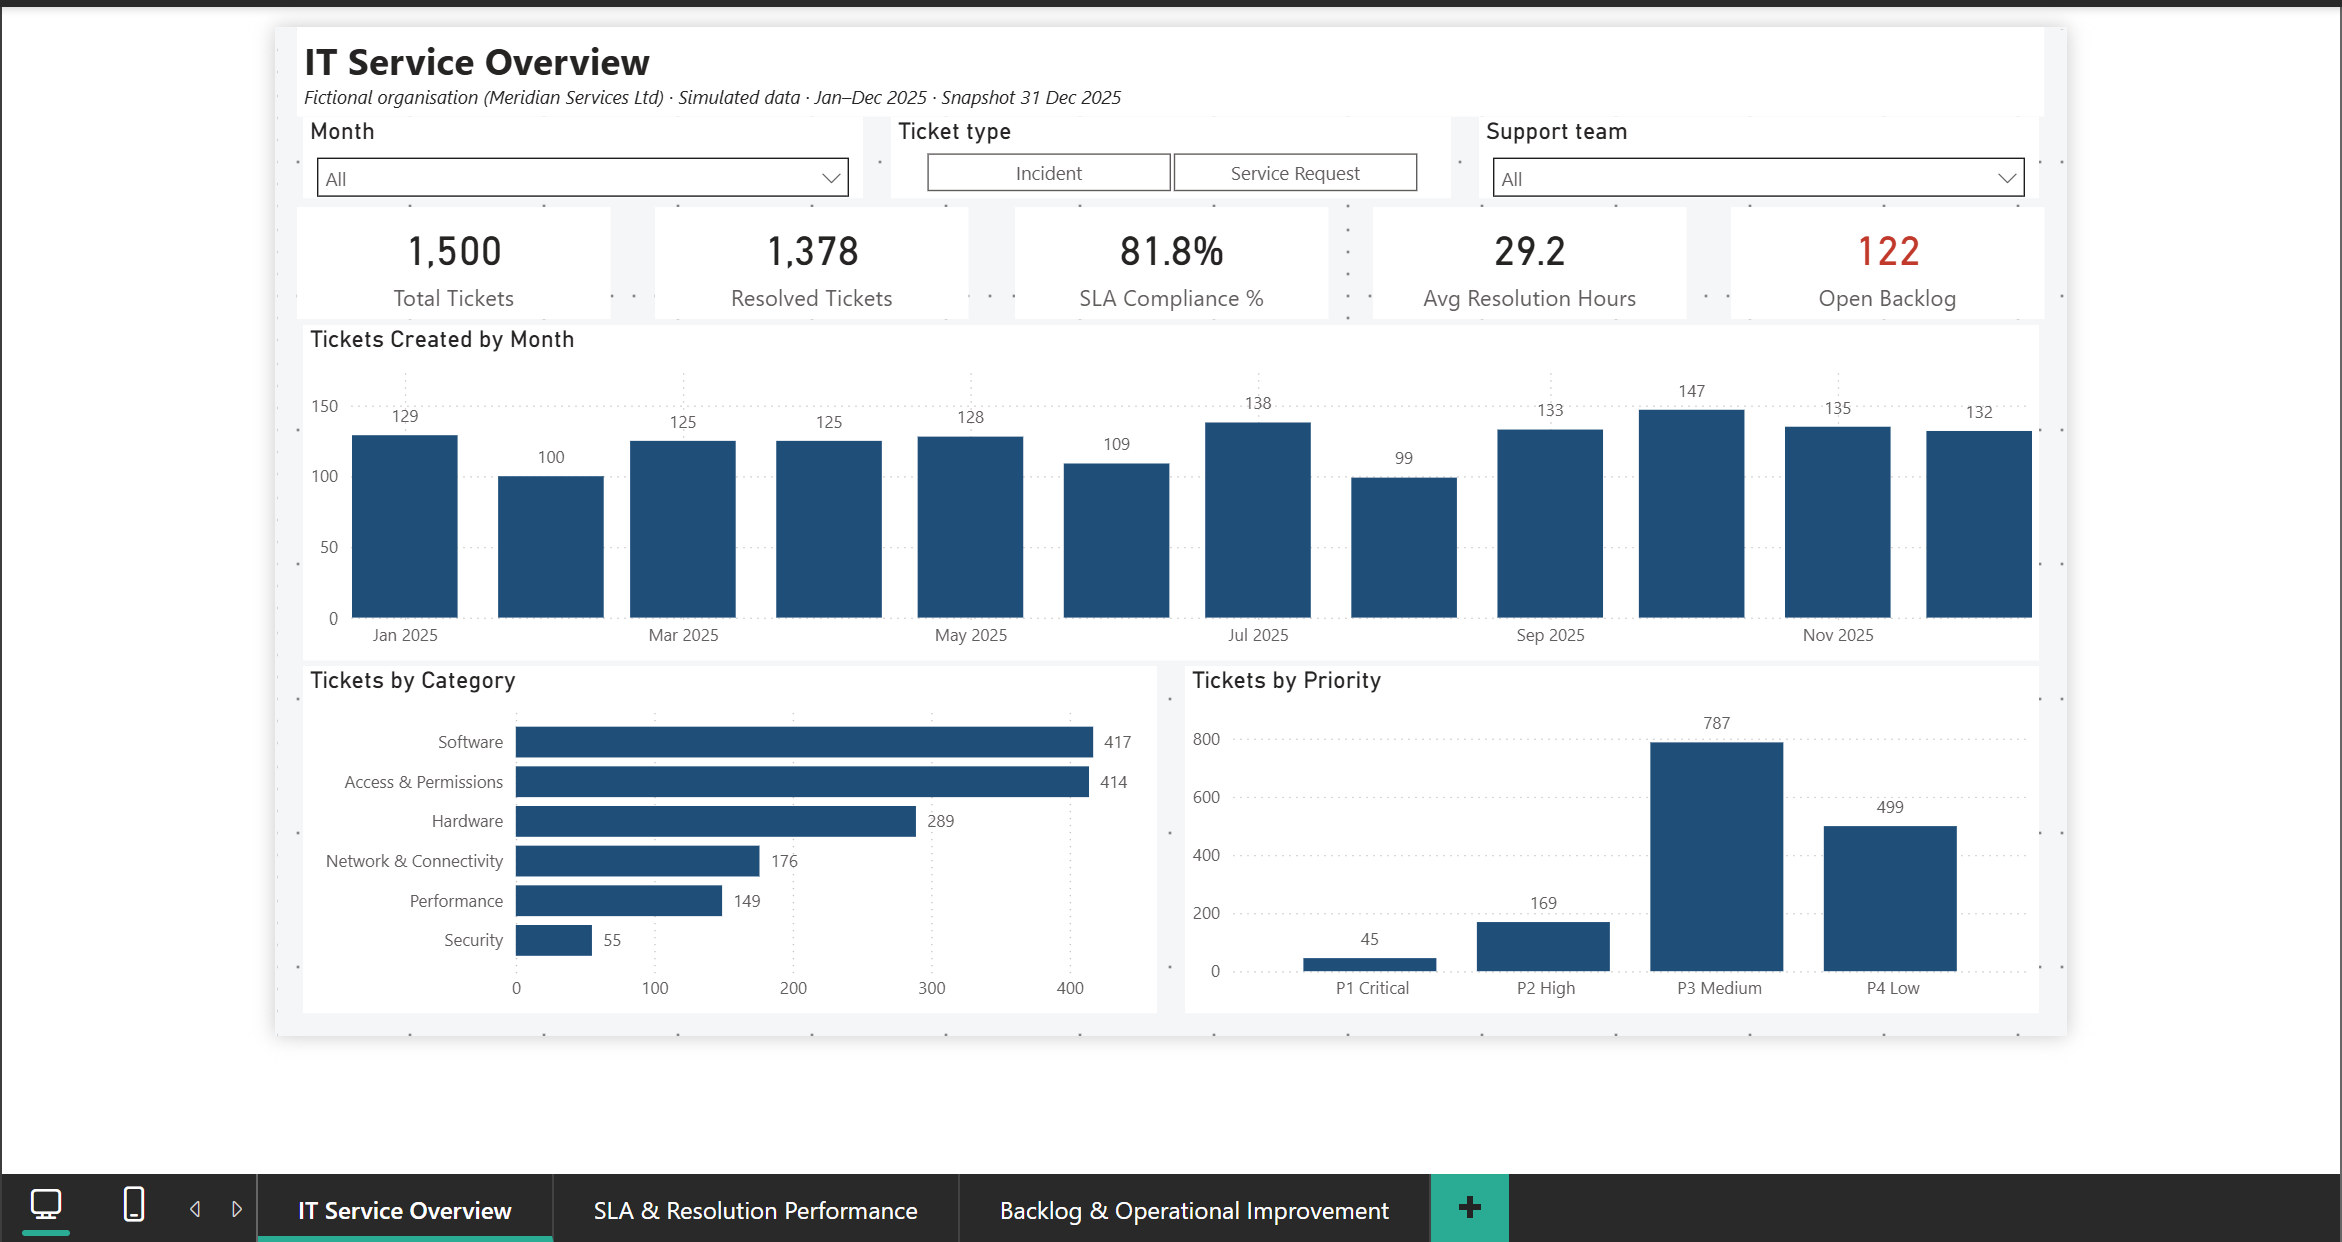

The page's visual inventory and layout, read from the dashboard file:
{"tool":"powerbi","page":{"name":"IT Service Overview","canvas":[1280,720],"ordinal":0},"visuals":[{"type":"textbox","box":[16,0,1248,64],"z":0},{"type":"slicer","title":"Month","fields":{"Values":["dim_date.month_label"]},"box":[20,64,400,58],"z":1000},{"type":"slicer","title":"Ticket type","fields":{"Values":["fact_tickets.ticket_type"]},"box":[440,64,400,58],"z":2000},{"type":"slicer","title":"Support team","fields":{"Values":["dim_service.support_team"]},"box":[860,64,400,58],"z":3000},{"type":"card","fields":{"Values":["fact_tickets.Total Tickets"]},"box":[16,128,224,80],"z":4000},{"type":"card","fields":{"Values":["fact_tickets.Resolved Tickets"]},"box":[272,128,224,80],"z":5000},{"type":"card","fields":{"Values":["fact_tickets.SLA Compliance %"]},"box":[528,128,224,80],"z":6000},{"type":"card","fields":{"Values":["fact_tickets.Avg Resolution Hours"]},"box":[784,128,224,80],"z":7000},{"type":"card","fields":{"Values":["fact_tickets.Open Backlog"]},"box":[1040,128,224,80],"z":8000},{"type":"clusteredColumnChart","title":"Tickets Created by Month","fields":{"Y":["fact_tickets.Total Tickets"],"Category":["dim_date.month_label"]},"box":[20,213,1240,239],"z":9000},{"type":"clusteredBarChart","title":"Tickets by Category","fields":{"Category":["fact_tickets.category"],"Y":["fact_tickets.Total Tickets"]},"box":[20,456,610,248],"z":10000},{"type":"clusteredColumnChart","title":"Tickets by Priority","fields":{"Category":["fact_tickets.priority"],"Y":["fact_tickets.Total Tickets"]},"box":[650,456,610,248],"z":11000}]}

Visuals, with their boxes on the page's 1280x720 design canvas (x1, y1, x2, y2). These are canvas units, not pixel positions in the 2342x1242 screenshot, which may show the page scaled, cropped or inside an application window:
textbox: [16,0,1264,64]
"Month" slicer: [20,64,420,122]
"Ticket type" slicer: [440,64,840,122]
"Support team" slicer: [860,64,1260,122]
card - fact_tickets.Total Tickets: [16,128,240,208]
card - fact_tickets.Resolved Tickets: [272,128,496,208]
card - fact_tickets.SLA Compliance %: [528,128,752,208]
card - fact_tickets.Avg Resolution Hours: [784,128,1008,208]
card - fact_tickets.Open Backlog: [1040,128,1264,208]
"Tickets Created by Month" clusteredColumnChart: [20,213,1260,452]
"Tickets by Category" clusteredBarChart: [20,456,630,704]
"Tickets by Priority" clusteredColumnChart: [650,456,1260,704]
